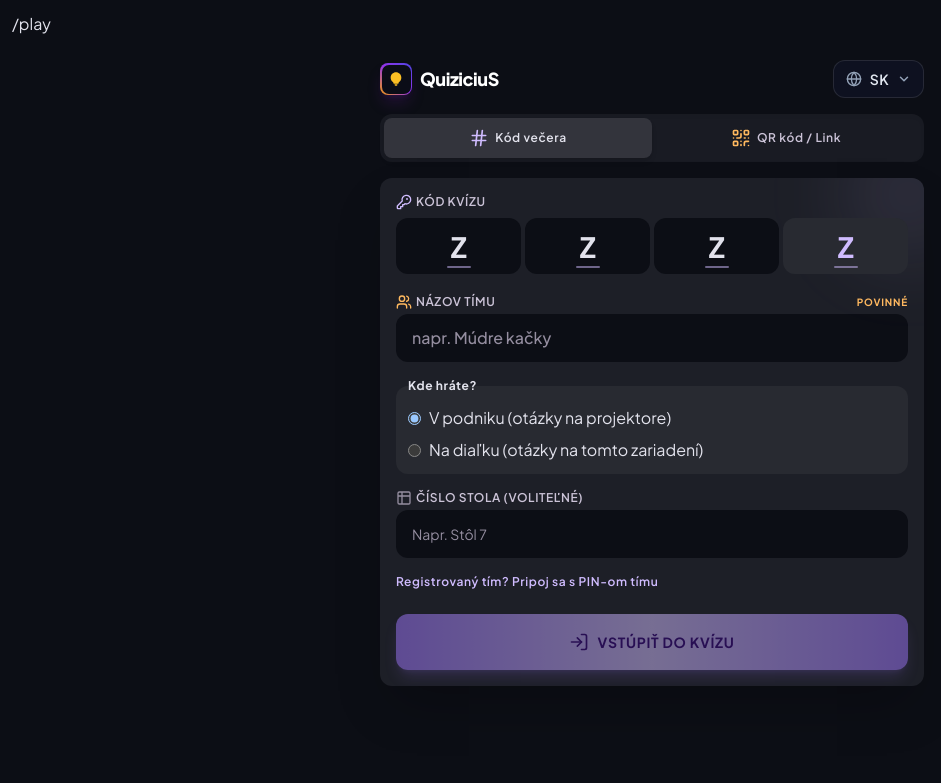
Test: joining › explains an unknown code and does not try to join
Type "Wise Ducks" into the field with test id "player-team-name" at point(652, 338), box [396,314,908,362]
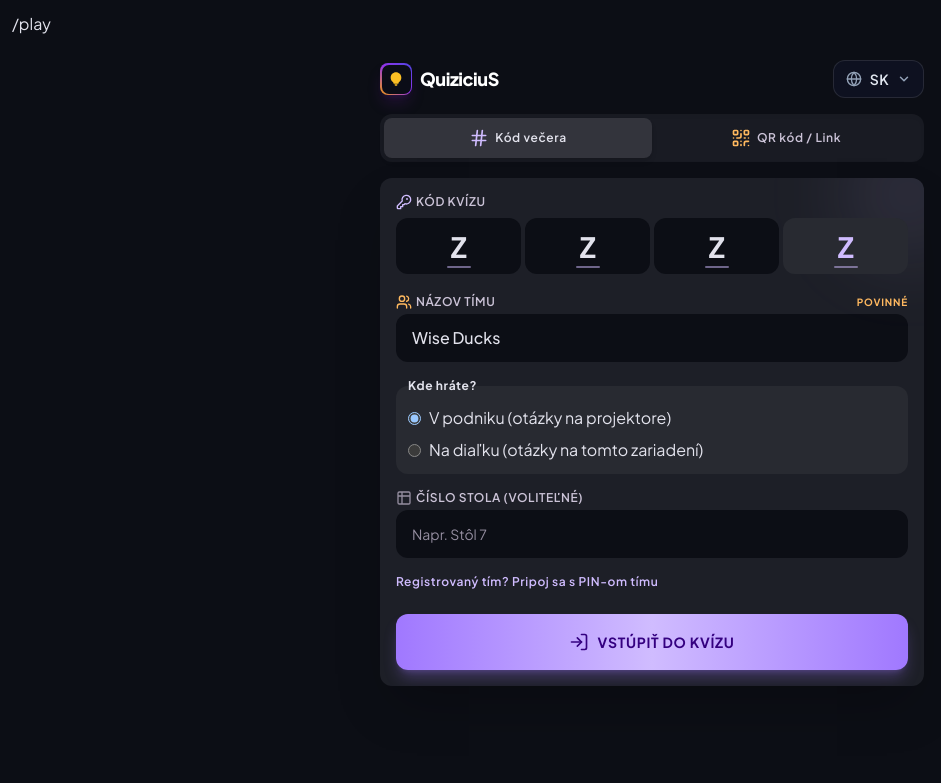
Submit the form with test id "player-join-form", box [396,194,908,670]
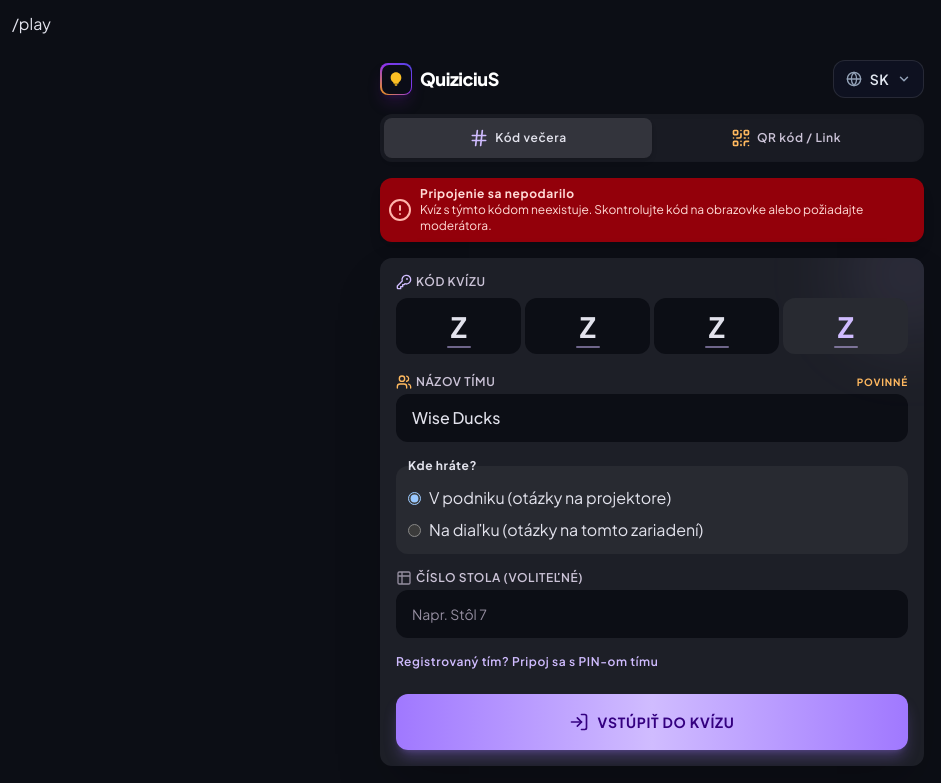
expect the message shows "Kvíz s týmto kódom neexistuje": met, box [420,202,863,233]
